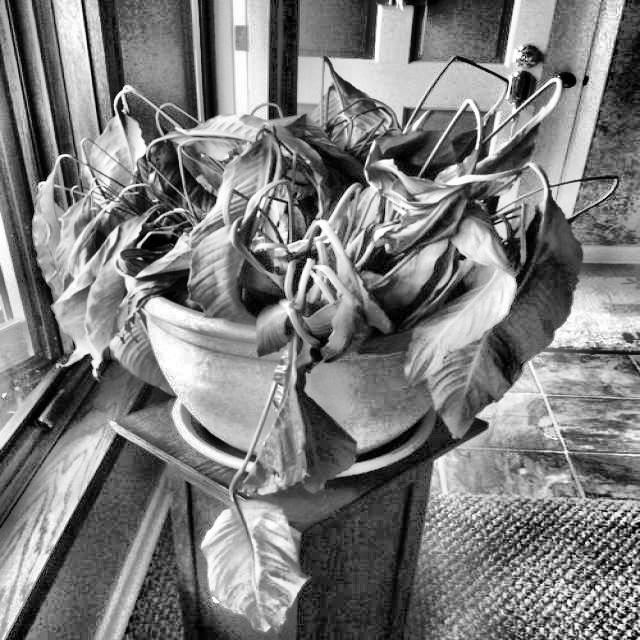plants: (31, 55, 588, 634), (46, 171, 160, 375), (186, 480, 314, 634)
